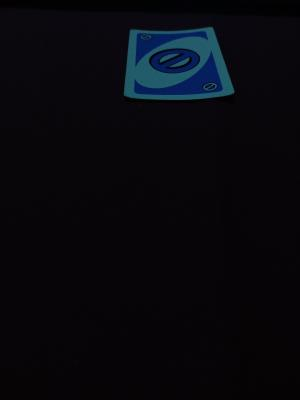blue: (136, 36, 219, 95)
skip: (201, 81, 218, 92)
